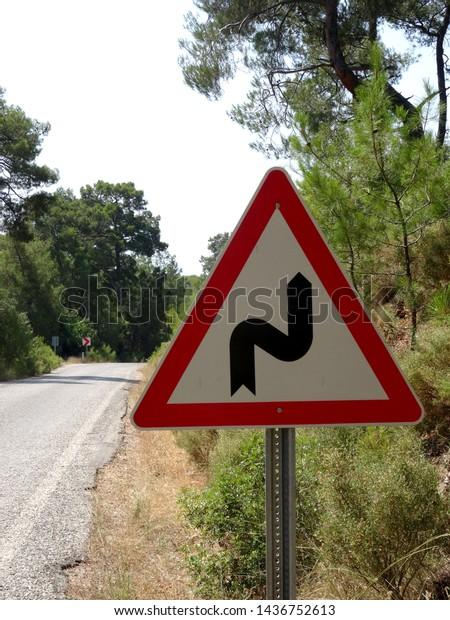Right Reverse Bend: (123, 149, 440, 464)
